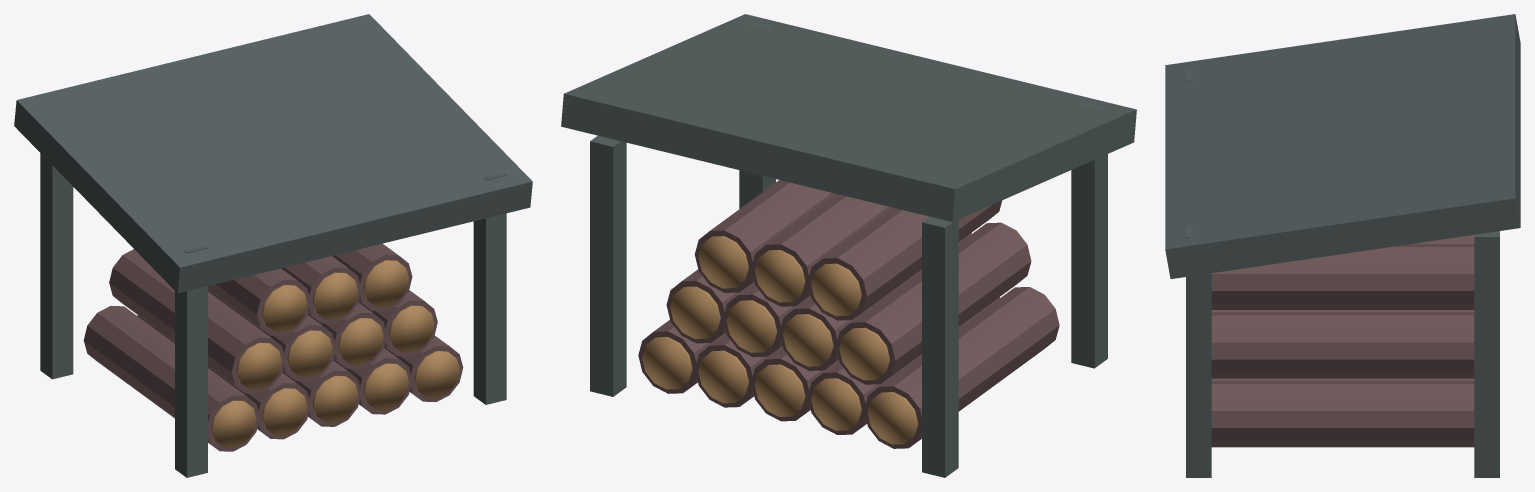
File: woodpile.glb
3 renders of one model, left to right at view 1: azimuth 30°, elevation 25°; view 2: azimuth 150°, elevation 25°; view 3: azimuth 270°, elevation 25°, orthographic. The views are drawn at different scales.
Parts seen in each view (by area): view 1: Woodpile_lean_roof, Woodpile_bark_log, Woodpile_shelter_post.001, Woodpile_bark_log.005, Woodpile_shelter_post.002, Woodpile_shelter_post, Woodpile_bark_log.009, Woodpile_bark_log.010, Woodpile_bark_log.011, Woodpile_cut_log_end.006, Woodpile_cut_log_end.012, Woodpile_cut_log_end.020 (+16 smaller); view 2: Woodpile_lean_roof, Woodpile_shelter_post.001, Woodpile_shelter_post.003, Woodpile_bark_log.005, Woodpile_bark_log, Woodpile_shelter_post, Woodpile_bark_log.009, Woodpile_bark_log.010, Woodpile_bark_log.011, Woodpile_cut_log_end.015, Woodpile_cut_log_end.009, Woodpile_cut_log_end.013 (+17 smaller); view 3: Woodpile_lean_roof, Woodpile_bark_log.008, Woodpile_bark_log.004, Woodpile_bark_log.011, Woodpile_shelter_post.003, Woodpile_shelter_post.002, Woodpile_bark_log.003, Woodpile_bark_log.007.
Boxes of the visible parts, x1,y1,x2,y2 form: Woodpile_lean_roof: (14,14,532,293); Woodpile_bark_log: (83,306,259,451); Woodpile_shelter_post.001: (40,153,73,379); Woodpile_bark_log.005: (109,249,285,393); Woodpile_shelter_post.002: (473,172,506,404); Woodpile_shelter_post: (175,245,207,477); Woodpile_bark_log.009: (208,268,309,335); Woodpile_bark_log.010: (281,256,361,323); Woodpile_bark_log.011: (332,243,412,311); Woodpile_cut_log_end.006: (363,363,408,410); Woodpile_cut_log_end.012: (287,330,332,377); Woodpile_cut_log_end.020: (312,272,358,319); Woodpile_lean_roof: (561,14,1136,221); Woodpile_shelter_post.001: (922,216,958,477); Woodpile_shelter_post.003: (590,135,626,396); Woodpile_bark_log.005: (835,222,1031,384); Woodpile_bark_log: (864,287,1059,448); Woodpile_shelter_post: (1071,103,1107,368); Woodpile_bark_log.009: (807,200,1002,320); Woodpile_bark_log.010: (751,194,891,306); Woodpile_bark_log.011: (694,180,835,292); Woodpile_cut_log_end.015: (726,300,777,352); Woodpile_cut_log_end.009: (642,337,692,389); Woodpile_cut_log_end.013: (783,314,833,366); Woodpile_lean_roof: (1165,14,1520,278); Woodpile_bark_log.008: (1211,312,1474,378); Woodpile_bark_log.004: (1211,381,1474,447); Woodpile_bark_log.011: (1211,244,1474,309); Woodpile_shelter_post.003: (1474,231,1499,477); Woodpile_shelter_post.002: (1186,226,1211,477); Woodpile_bark_log.003: (1211,378,1474,380); Woodpile_bark_log.007: (1211,310,1474,312).
Bounding box in the file's own units: 2.36 × 1.72 × 1.92.
